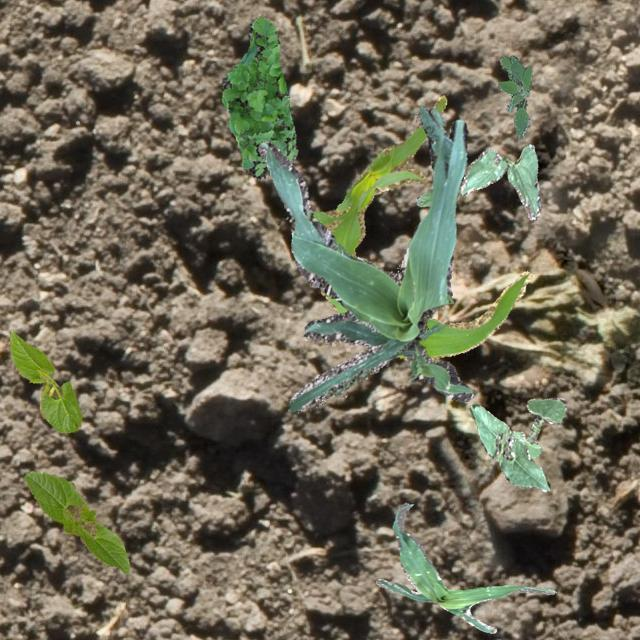crop: (258, 106, 472, 410), (312, 94, 532, 358), (374, 502, 554, 632), (23, 470, 128, 572), (8, 329, 80, 432), (468, 404, 550, 491), (460, 144, 540, 218), (510, 397, 566, 458), (415, 188, 431, 206)
weed: (220, 15, 296, 178), (496, 54, 532, 138)
